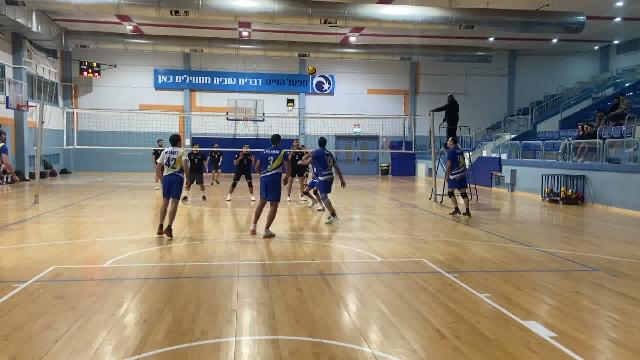ball: (305, 61, 318, 81)
